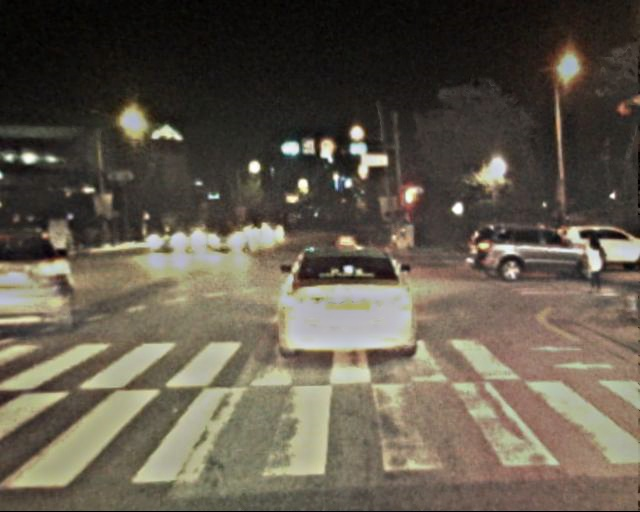person: (578, 231, 608, 303)
